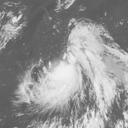cyclone: (17, 59, 86, 114)
